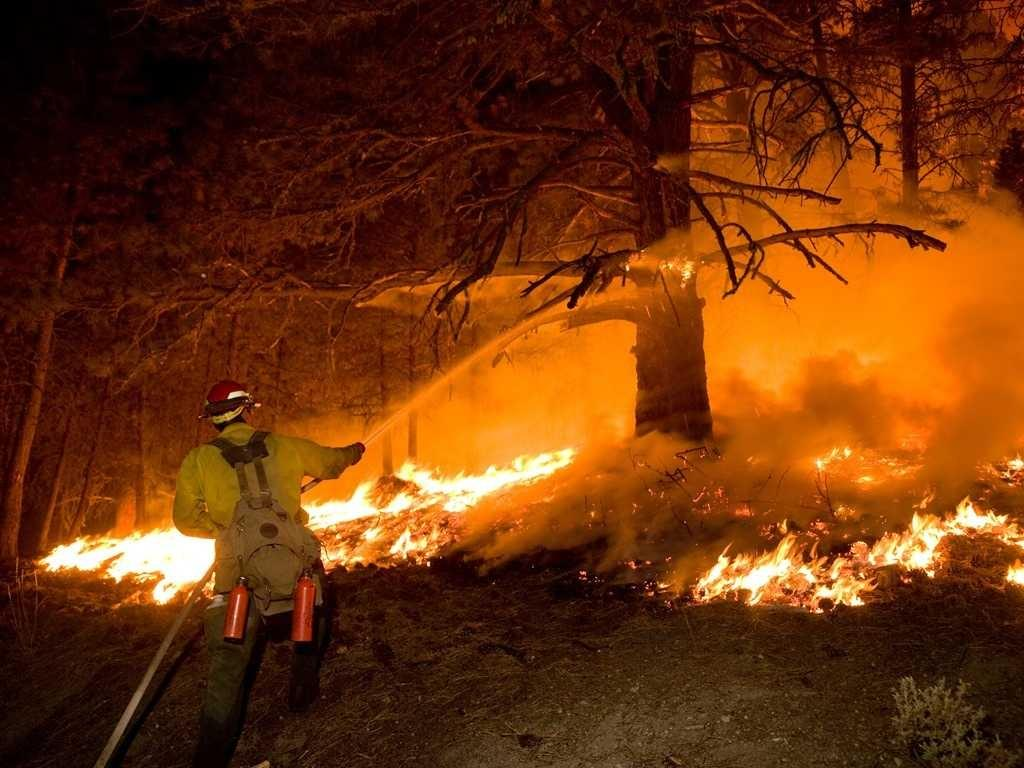fire: (716, 536, 878, 596), (56, 526, 196, 578), (396, 464, 516, 504)
